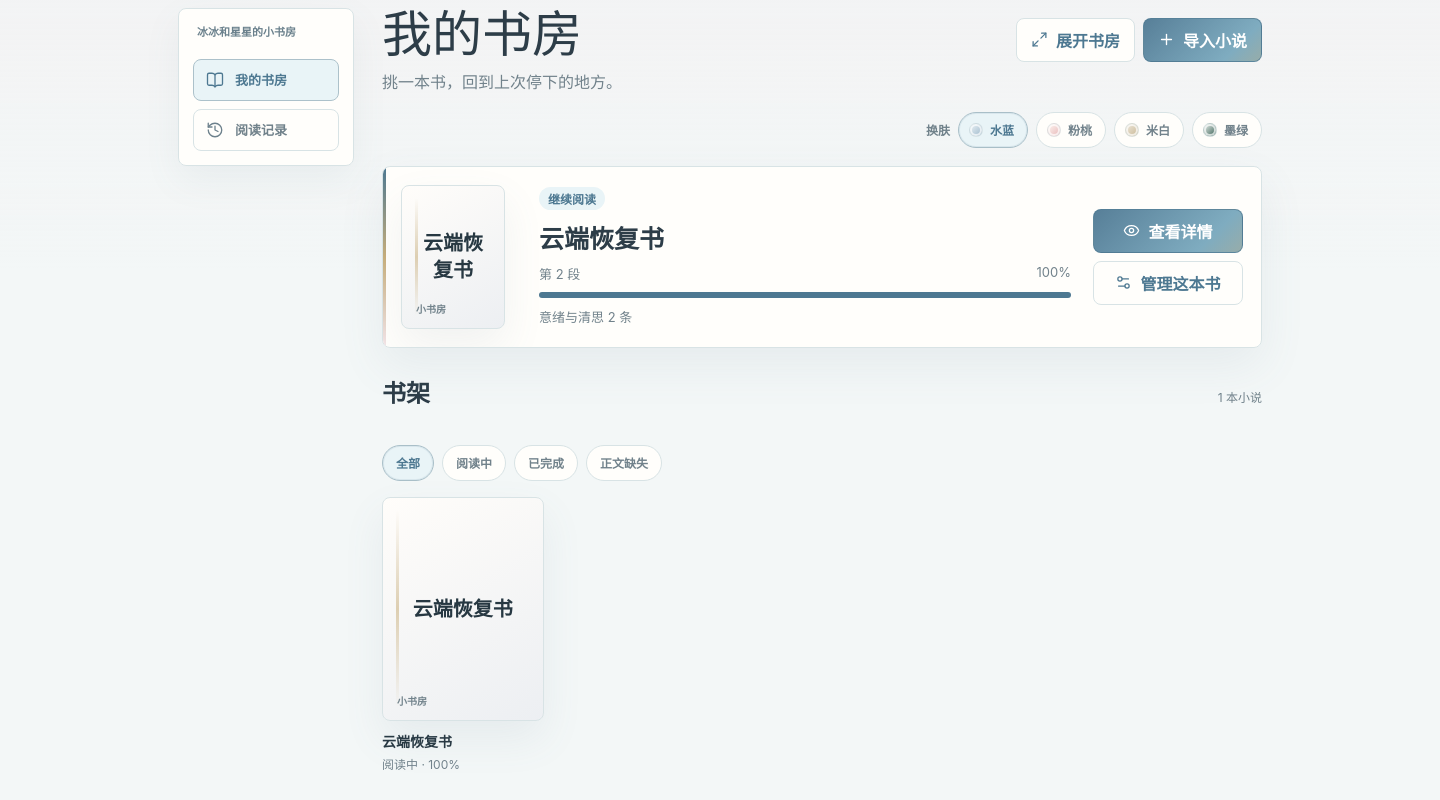
Test case: App › automatically restores a cloud novel on Home when local cache is missing
The width and height of the screenshot is (1440, 800).
(page scrolled)
Click the button "小书房 云端恢复书 阅读中 · 100%" at (463, 635), box left=382, top=497, right=544, bottom=772
(page scrolled)
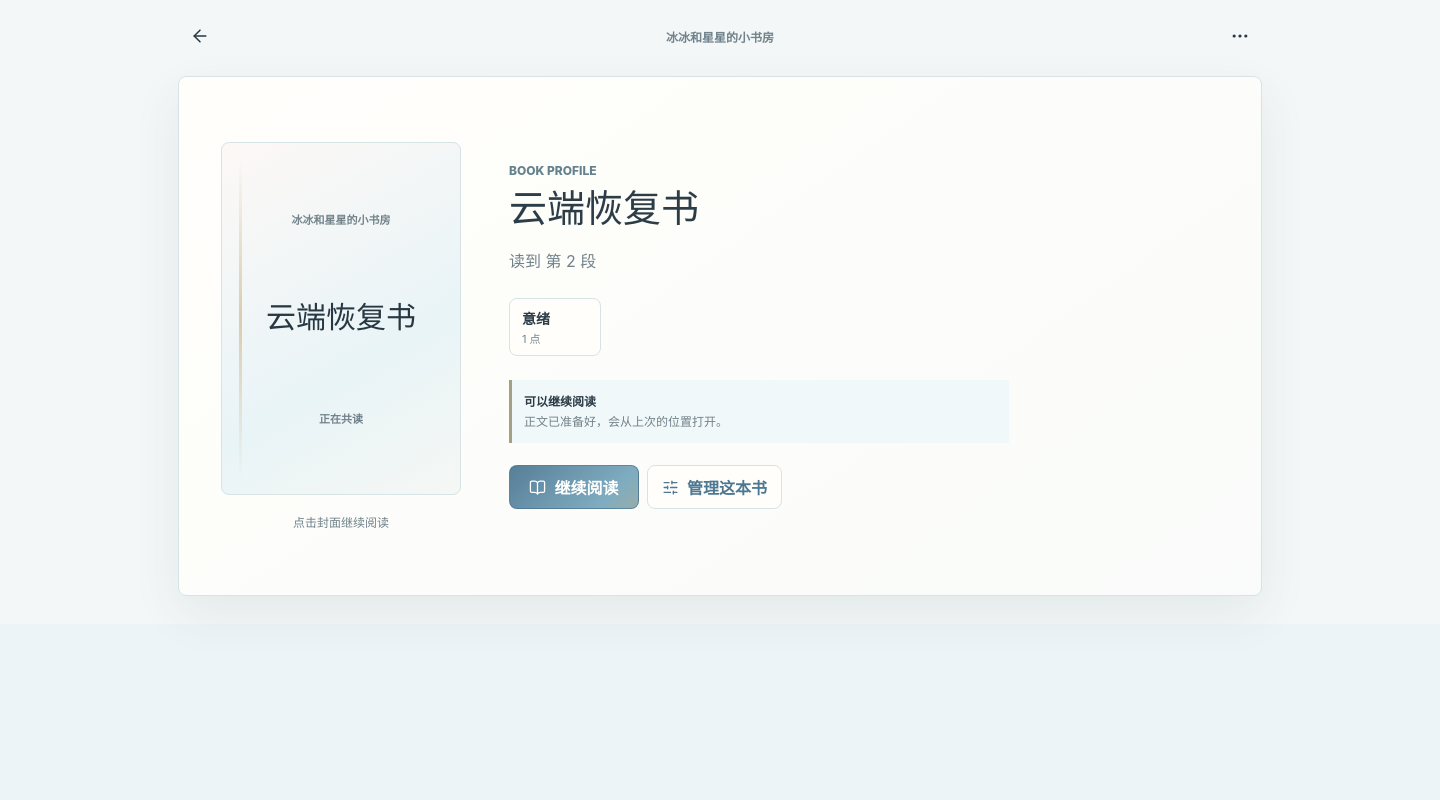
expect the text "可以继续阅读" is shown: met, box left=524, top=394, right=596, bottom=409
expect the button with aria-label "继续阅读《云端恢复书》" is enabled: met, box left=221, top=142, right=461, bottom=495
